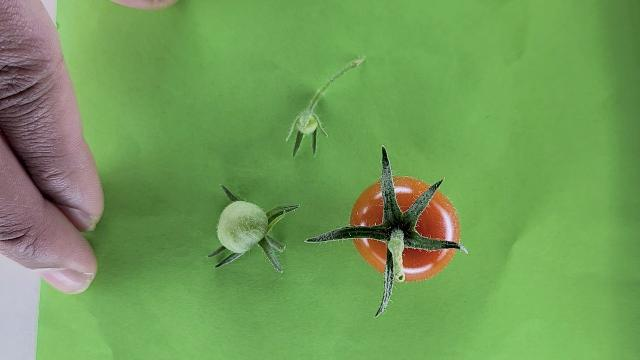Fruit Bud: (289, 113, 325, 158), (291, 112, 325, 149)
Fruit Maturation: (214, 202, 273, 259)
Fully Grown: (349, 176, 469, 286)
